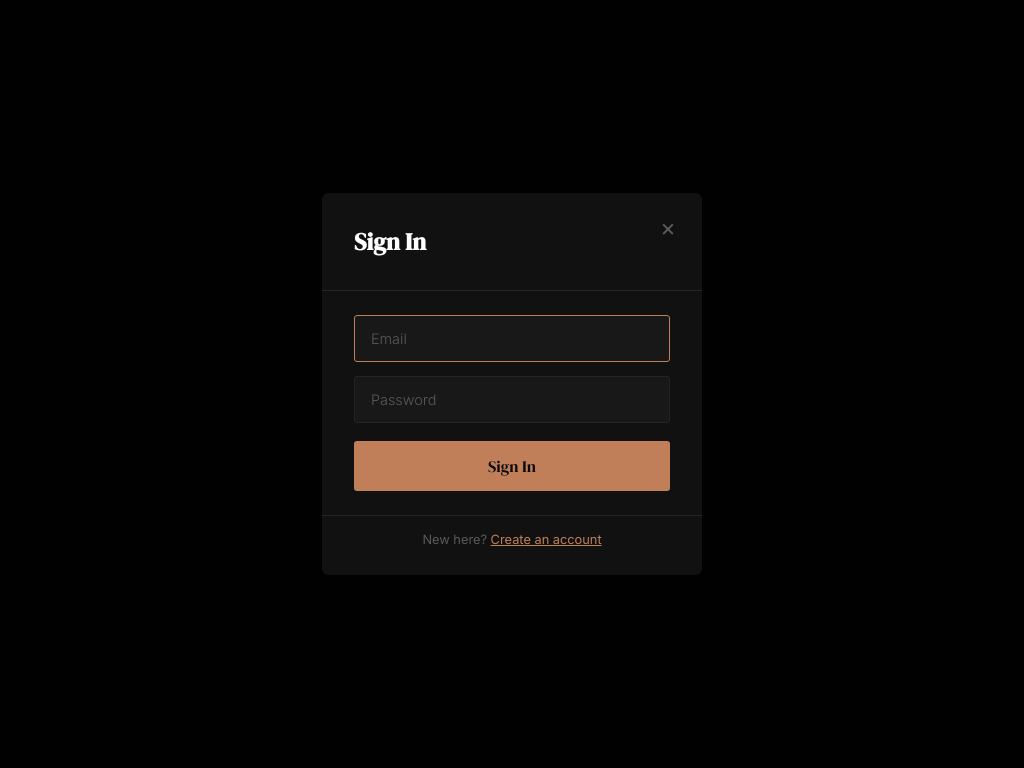
Scenario: AuthModal › mode switching › switches to signup mode when "Create an account" is clicked
What coordinates should you click on to do the following:
click the button "Create an account"
I would click on:
 (546, 540)
Its box is top-left (491, 532), bottom-right (602, 547).
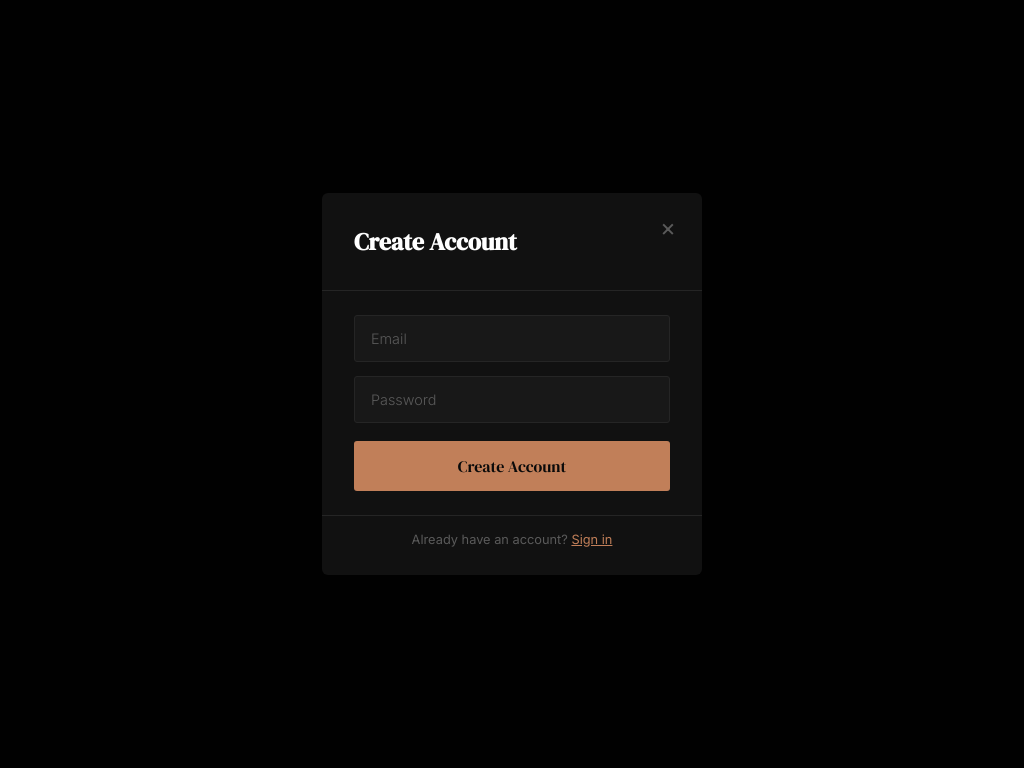
Expected: the heading "Create Account" is shown, top-left (354, 225), bottom-right (517, 258)
